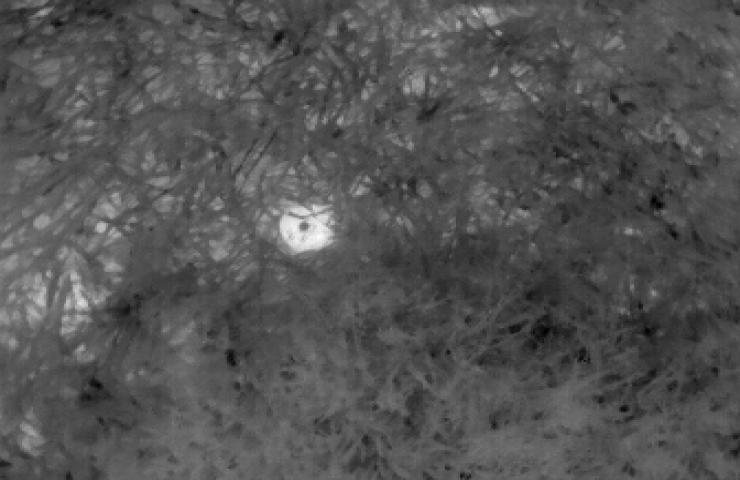landmines: (277, 199, 339, 255)
